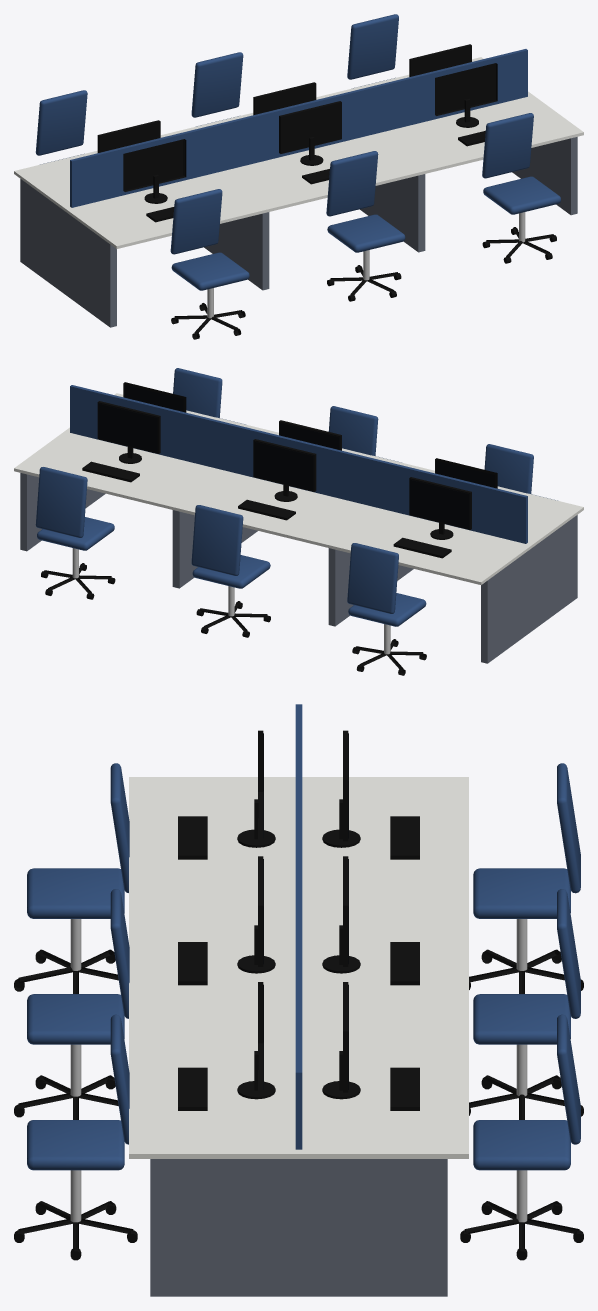
File: office.desk.bench_6.glb
The picture shows the model from 3 angles, top to bottom: view 1: azimuth 30°, elevation 25°; view 2: azimuth 150°, elevation 25°; view 3: azimuth 270°, elevation 25°; orthographic projection. The views are drawn at different scales.
Visible parts, largest first — view 1: chairs__fabric_blue, desk__laminate_white, desk__steel_painted, desk__fabric_blue, kit__plastic_black, chairs__plastic_black, chairs__steel_stainless; view 2: desk__laminate_white, chairs__fabric_blue, desk__fabric_blue, desk__steel_painted, kit__screen, kit__plastic_black, chairs__plastic_black, chairs__steel_stainless; view 3: desk__laminate_white, desk__steel_painted, chairs__fabric_blue, kit__plastic_black, chairs__plastic_black, chairs__steel_stainless, desk__fabric_blue.
Boxes of the visible parts, x1,y1,x2,y2 form: chairs__fabric_blue: (35,14,560,290); desk__laminate_white: (14,57,583,248); desk__steel_painted: (20,137,577,327); desk__fabric_blue: (70,49,527,207); kit__plastic_black: (97,44,497,222); chairs__plastic_black: (171,227,556,339); chairs__steel_stainless: (207,212,525,318); desk__laminate_white: (14,393,583,584); chairs__fabric_blue: (35,368,557,626); desk__fabric_blue: (70,385,527,543); desk__steel_painted: (20,473,577,663); kit__screen: (98,384,494,528); kit__plastic_black: (82,382,497,558); chairs__plastic_black: (41,563,426,675); chairs__steel_stainless: (72,548,390,654); desk__laminate_white: (129,777,468,1158); desk__steel_painted: (150,1159,447,1296); chairs__fabric_blue: (27,763,580,1170); kit__plastic_black: (178,730,419,1110); chairs__plastic_black: (14,949,583,1260); chairs__steel_stainless: (70,919,527,1222); desk__fabric_blue: (295,704,302,1149).
Bounding box in the file's own units: 4.2 × 1.18 × 2.68.
